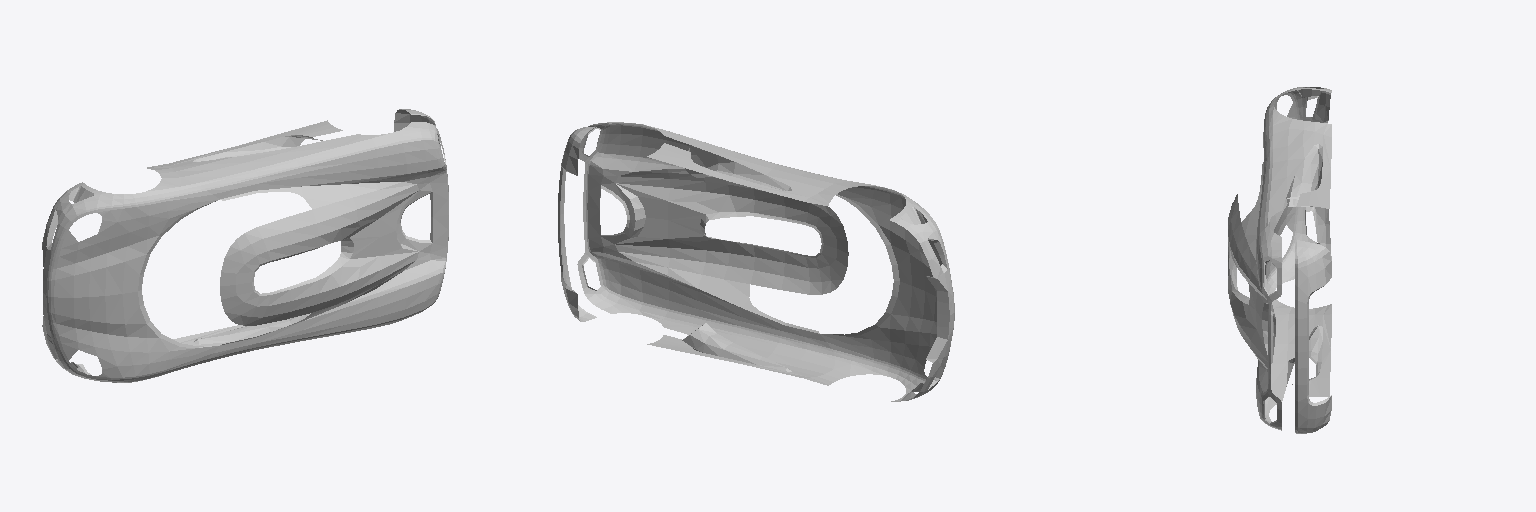
File: CarBody0.obj
The picture shows the model from 3 angles: view 1: azimuth 30°, elevation 25°; view 2: azimuth 150°, elevation 25°; view 3: azimuth 270°, elevation 25°; orthographic projection.
Bounding box in the file's own units: 38.08 × 17.63 × 8.73.